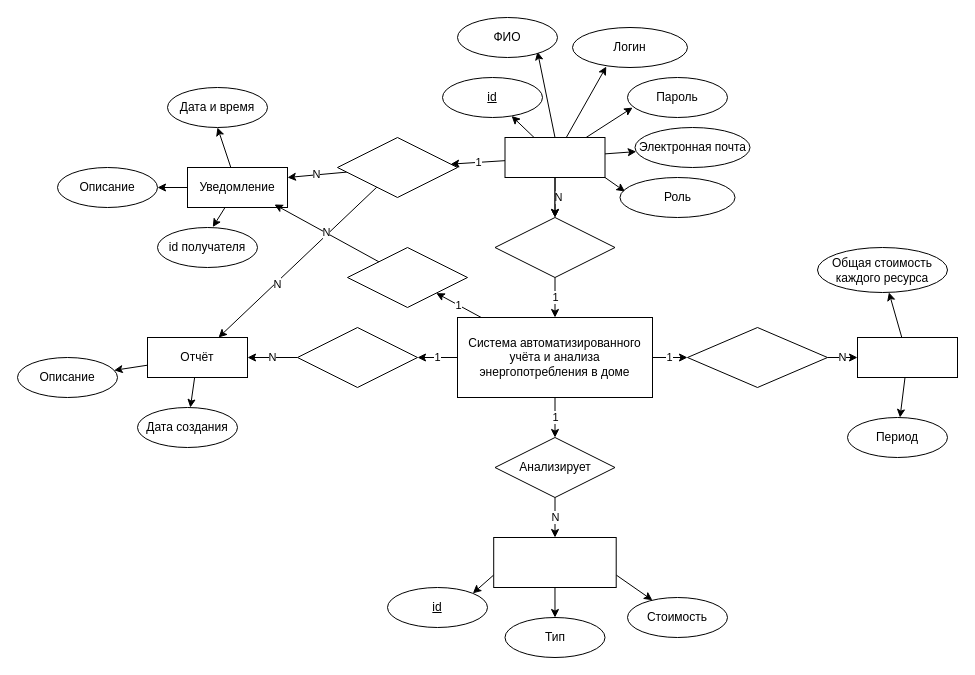
The diagram is 975 pixels wide and 675 high, and some of its shapes have lost their labels. The shapes that lost their labels are listed below. From the top down, each one's centre as x and y in pixels, then its label:
point 397,167: Получает
point 554,157: Пользователь
point 554,247: Взаимодействует
point 407,277: Отправляет
point 357,357: Формирует
point 757,357: Хранит
point 907,357: Данные о потреблении
point 554,562: Энергоресурсы
